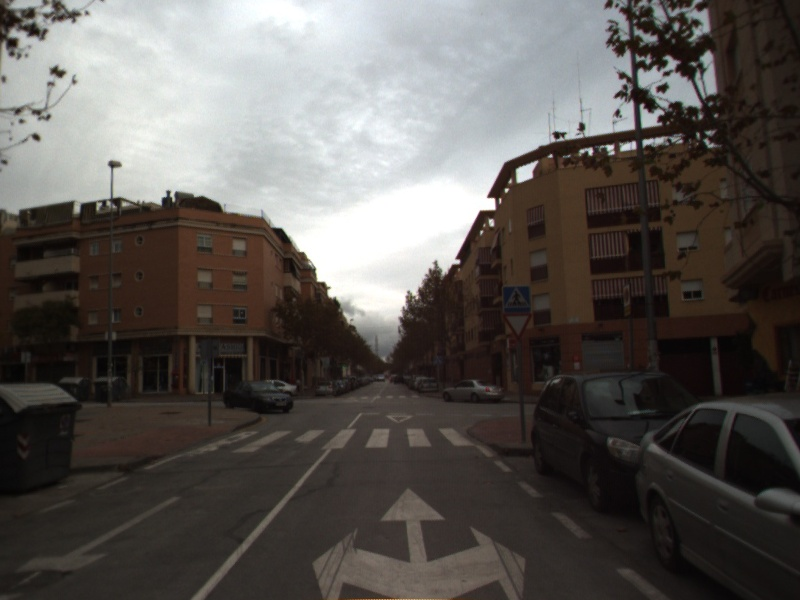STRAIGHT_LEFT_RIGHT: (310, 484, 529, 600)
